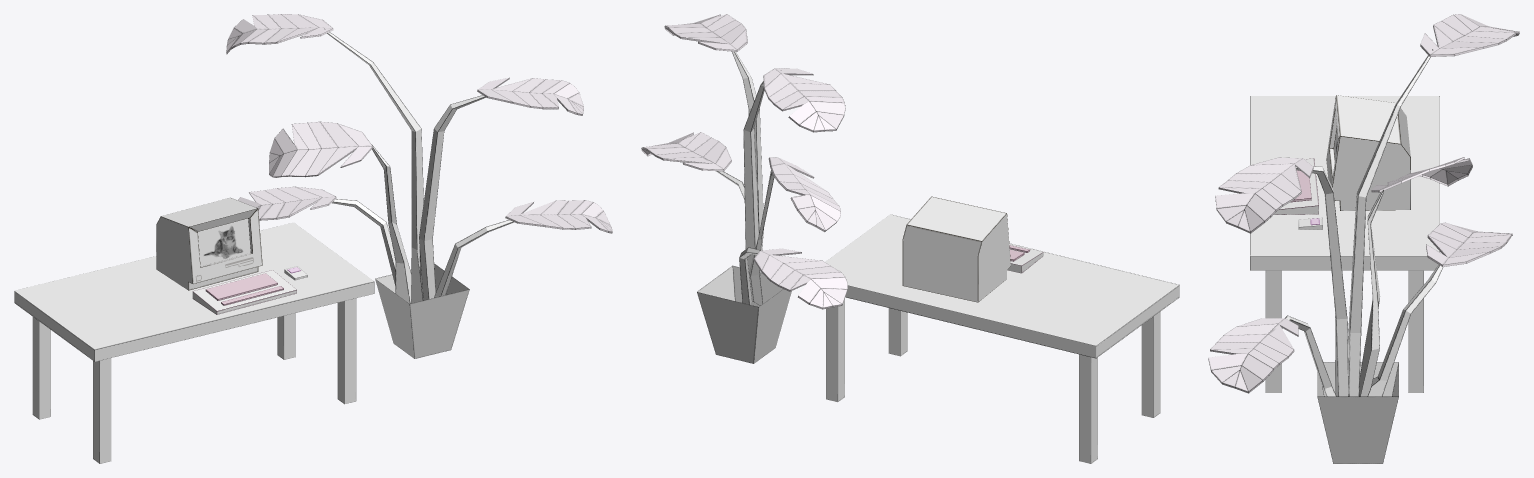
File: room_draft01.gltf
3 renders of one model, left to right at view 1: azimuth 30°, elevation 25°; view 2: azimuth 150°, elevation 25°; view 3: azimuth 270°, elevation 25°, orthographic. The views are drawn at different scales.
Parts seen in each view (by area): view 1: Table, Palm, Monitor, Pot, Keyboard, Screen; view 2: Table, Palm, Monitor, Pot, Keyboard; view 3: Palm, Table, Monitor, Pot, Keyboard.
Boxes of the visible parts, x1,y1,x2,y2 form: Table: [14, 222, 374, 463]; Palm: [226, 14, 612, 303]; Monitor: [156, 197, 262, 290]; Pot: [375, 264, 469, 358]; Keyboard: [192, 270, 296, 314]; Screen: [198, 218, 250, 266]; Table: [825, 214, 1179, 463]; Palm: [641, 14, 847, 309]; Monitor: [902, 196, 1010, 302]; Pot: [697, 265, 791, 363]; Keyboard: [1007, 244, 1043, 273]; Palm: [1208, 14, 1519, 396]; Table: [1250, 96, 1439, 392]; Monitor: [1326, 95, 1410, 210]; Pot: [1317, 362, 1398, 463]; Keyboard: [1273, 158, 1318, 214].
Bounding box in the file's own units: 203 × 118 × 90.47.
Materials: 12 (12 with a texture image).
